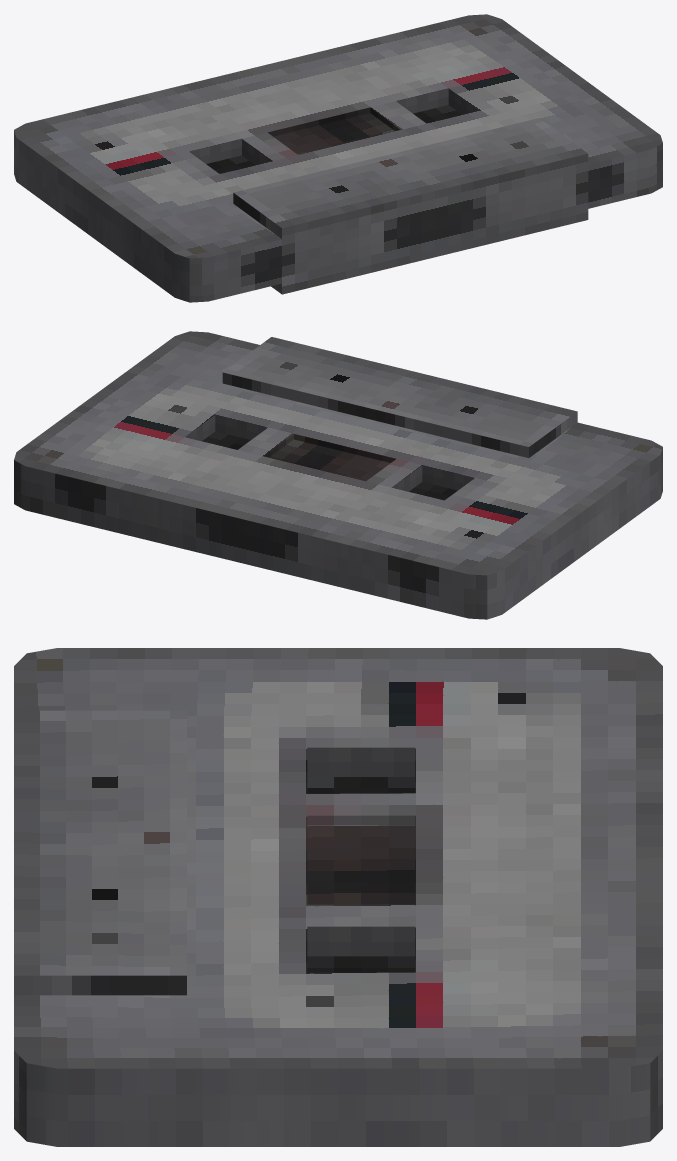
File: cassette_tape_1.glb
3 views of the same model, one above another, from view 1: azimuth 30°, elevation 25°; view 2: azimuth 150°, elevation 25°; view 3: azimuth 270°, elevation 25° (orthographic). The views are drawn at different scales.
Visible parts, largest first — view 1: cassette_tape_1; view 2: cassette_tape_1; view 3: cassette_tape_1.
Part boxes in pixels (bbox=[...]): cassette_tape_1: bbox=[14, 14, 662, 302]; cassette_tape_1: bbox=[14, 331, 662, 619]; cassette_tape_1: bbox=[14, 648, 662, 1146].
Size of the model in its own units: 0.1656 by 0.0216 by 0.108.
Materials: 1 (1 with a texture image).
